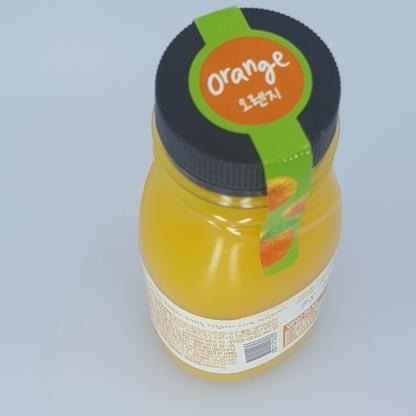-----------------190ML: (138, 6, 342, 382)
